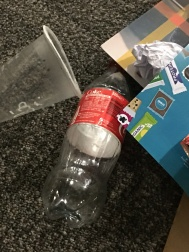bottle_red: (55, 44, 125, 232)
